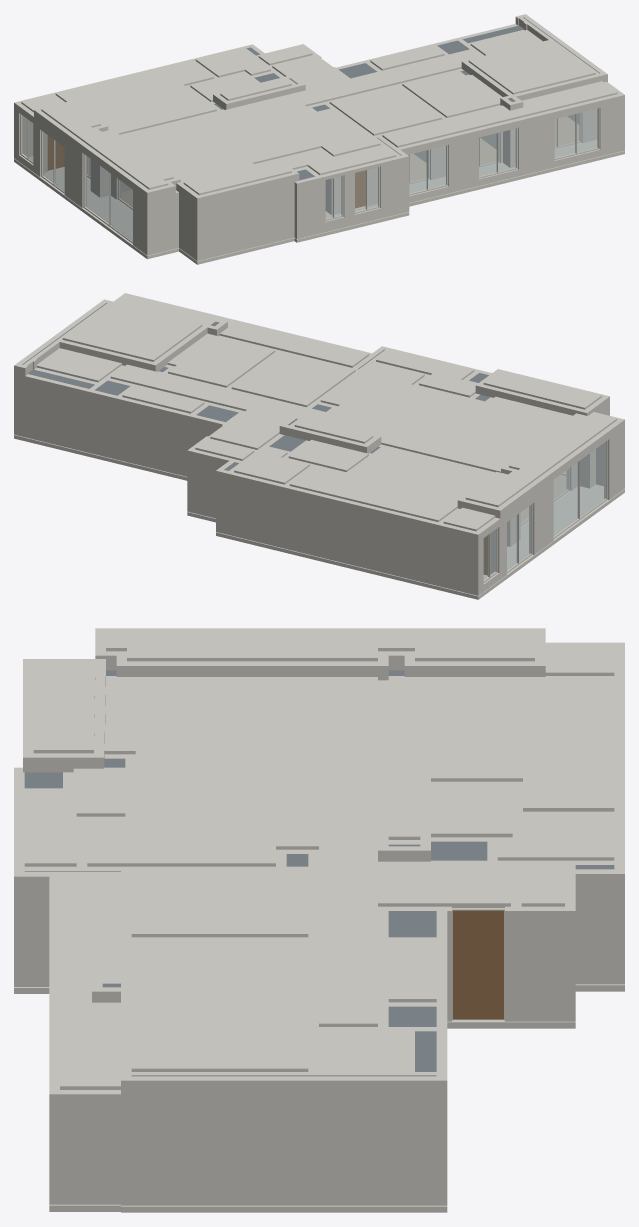
The model's file is acro168d-basic-archisketch.glb.
3 views of the same model, one above another, from view 1: azimuth 30°, elevation 25°; view 2: azimuth 150°, elevation 25°; view 3: azimuth 270°, elevation 25° (orthographic). The views are drawn at different scales.
Parts seen in each view (by area): view 1: Ceiling/living-kitchen-hall, Wall/layer-02/00, Ceiling/primary, Wall/layer-07/00, Wall/layer-00/00, Ceiling/bedroom-01, Ceiling/balcony-02, Ceiling/balcony-01, Ceiling/bedroom-02, Base/00, Ceiling/bedroom-03, Wall/layer-08/02 (+49 smaller); view 2: Ceiling/living-kitchen-hall, Wall/layer-02/06, Ceiling/primary, Wall/layer-02/05, Wall/layer-07/00, Ceiling/bedroom-01, Ceiling/balcony-01, Ceiling/bedroom-02, Ceiling/balcony-02, Ceiling/bedroom-03, Wall/layer-08/02, Base/00 (+31 smaller); view 3: Ceiling/living-kitchen-hall, Wall/layer-02/05, Ceiling/primary, Wall/layer-07/00, Ceiling/bedroom-01, Ceiling/balcony-01, Ceiling/balcony-02, Ceiling/bedroom-02, Wall/layer-08/02, Wall/layer-02/06, Wall/layer-08/00, Ceiling/bedroom-03 (+26 smaller).
Part boxes in pixels (x1,y1,x2,y2): Ceiling/living-kitchen-hall: [121, 49, 481, 181]; Wall/layer-02/00: [133, 176, 341, 250]; Ceiling/primary: [55, 60, 216, 134]; Wall/layer-07/00: [14, 24, 624, 205]; Wall/layer-00/00: [133, 115, 624, 261]; Ceiling/bedroom-01: [468, 40, 595, 94]; Ceiling/balcony-02: [382, 81, 617, 147]; Ceiling/balcony-01: [41, 102, 173, 189]; Ceiling/bedroom-02: [329, 85, 442, 135]; Base/00: [14, 143, 624, 264]; Ceiling/bedroom-03: [402, 71, 502, 117]; Wall/layer-08/02: [461, 14, 607, 110]; Ceiling/living-kitchen-hall: [110, 362, 572, 472]; Wall/layer-02/06: [187, 459, 483, 584]; Ceiling/primary: [289, 446, 494, 521]; Wall/layer-02/05: [14, 382, 215, 465]; Wall/layer-07/00: [19, 293, 589, 534]; Ceiling/bedroom-01: [62, 302, 202, 361]; Ceiling/balcony-01: [465, 413, 616, 507]; Ceiling/bedroom-02: [231, 351, 355, 407]; Ceiling/balcony-02: [117, 294, 369, 367]; Ceiling/bedroom-03: [167, 333, 275, 387]; Wall/layer-08/02: [14, 299, 227, 375]; Base/00: [14, 434, 624, 599]; Ceiling/living-kitchen-hall: [87, 677, 510, 1026]; Wall/layer-02/05: [49, 926, 451, 1185]; Ceiling/primary: [388, 677, 614, 811]; Wall/layer-07/00: [14, 642, 624, 1094]; Ceiling/bedroom-01: [131, 988, 308, 1071]; Ceiling/balcony-01: [106, 629, 534, 661]; Ceiling/balcony-02: [60, 873, 120, 1089]; Ceiling/bedroom-02: [131, 868, 308, 937]; Wall/layer-08/02: [92, 979, 447, 1095]; Wall/layer-02/06: [452, 889, 624, 1000]; Wall/layer-08/00: [95, 628, 545, 680]; Ceiling/bedroom-03: [131, 938, 308, 987].
Bounding box in the file's own units: 20.23 × 2.82 × 11.54.
